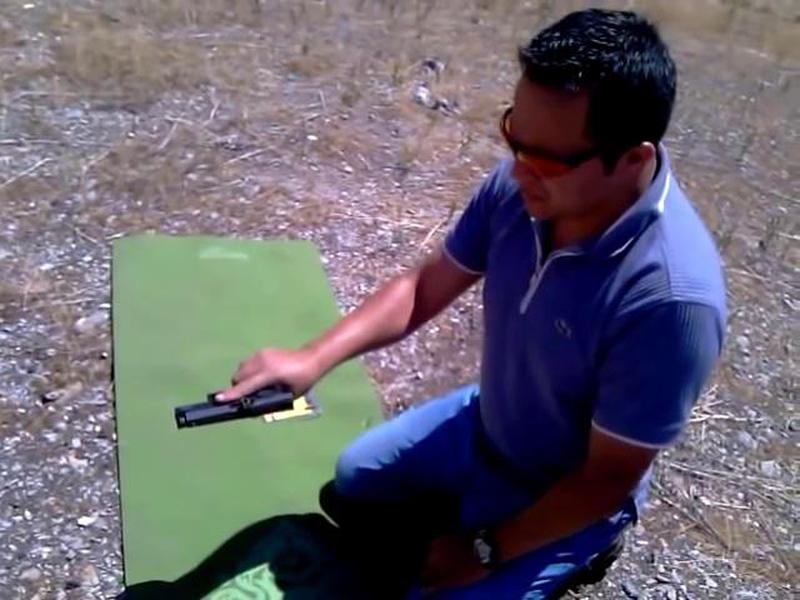Pistola: (165, 355, 308, 453)
